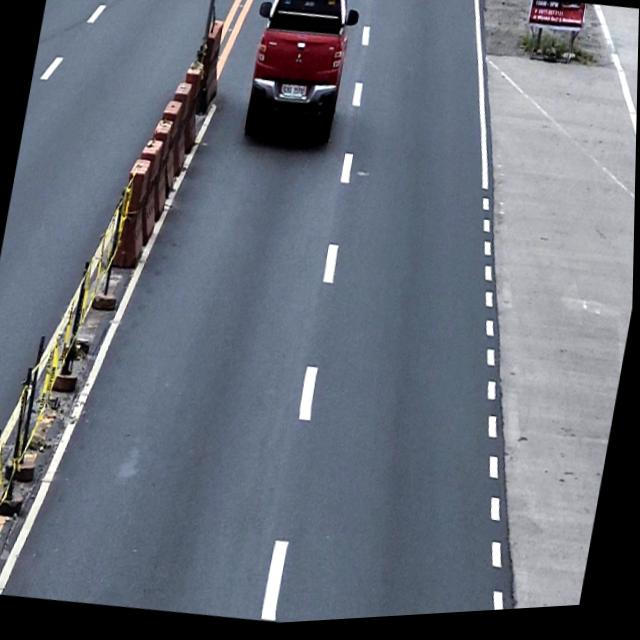Car: (237, 0, 365, 155)
License-Plate: (279, 83, 309, 104)
